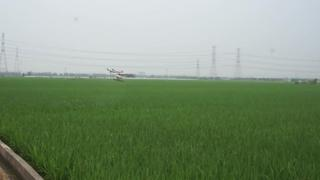UAV: (106, 68, 134, 82)
